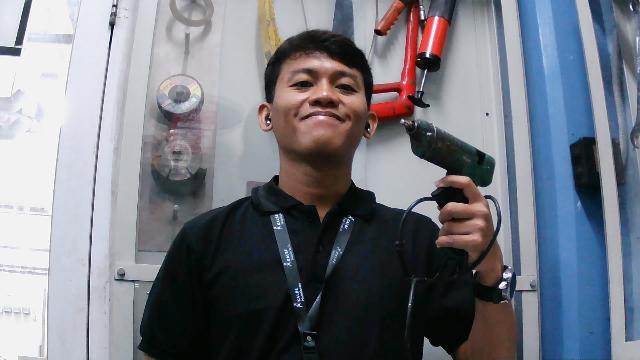gun_lem: (396, 113, 502, 262)
